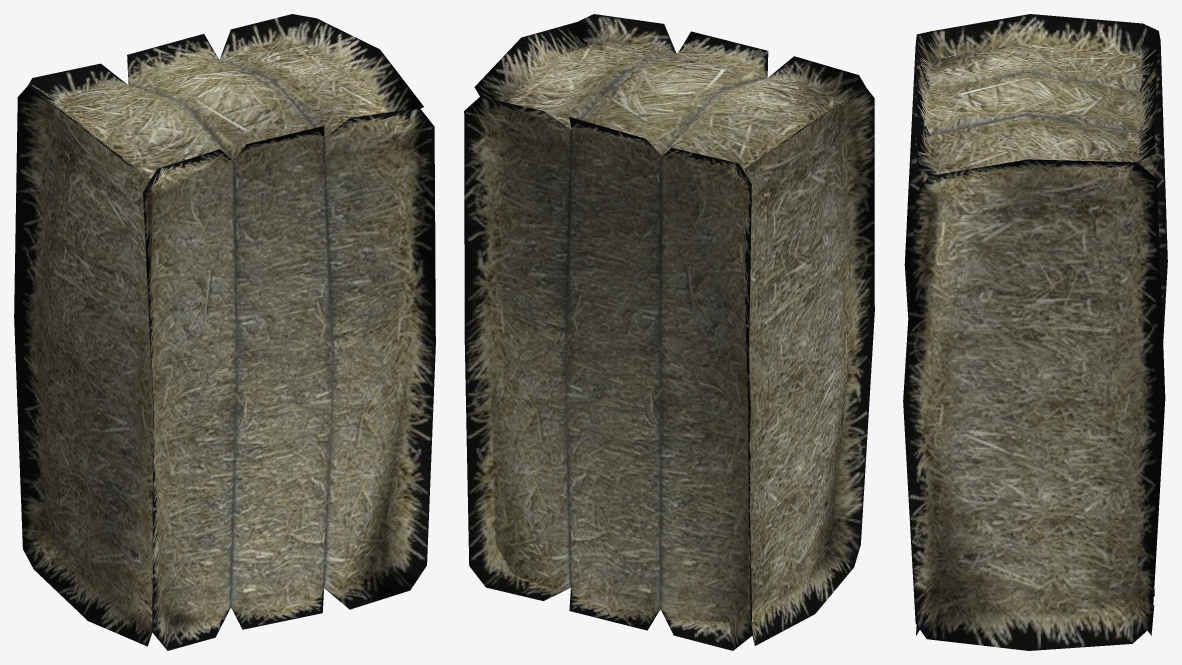
Rendered from prop_haybale.glb.
3 views of the same model, side by side, from view 1: azimuth 30°, elevation 25°; view 2: azimuth 150°, elevation 25°; view 3: azimuth 270°, elevation 25° (orthographic).
Size of the model in its own units: 33.48 by 52.91 by 25.55.
Materials: 1 (1 with a texture image).
